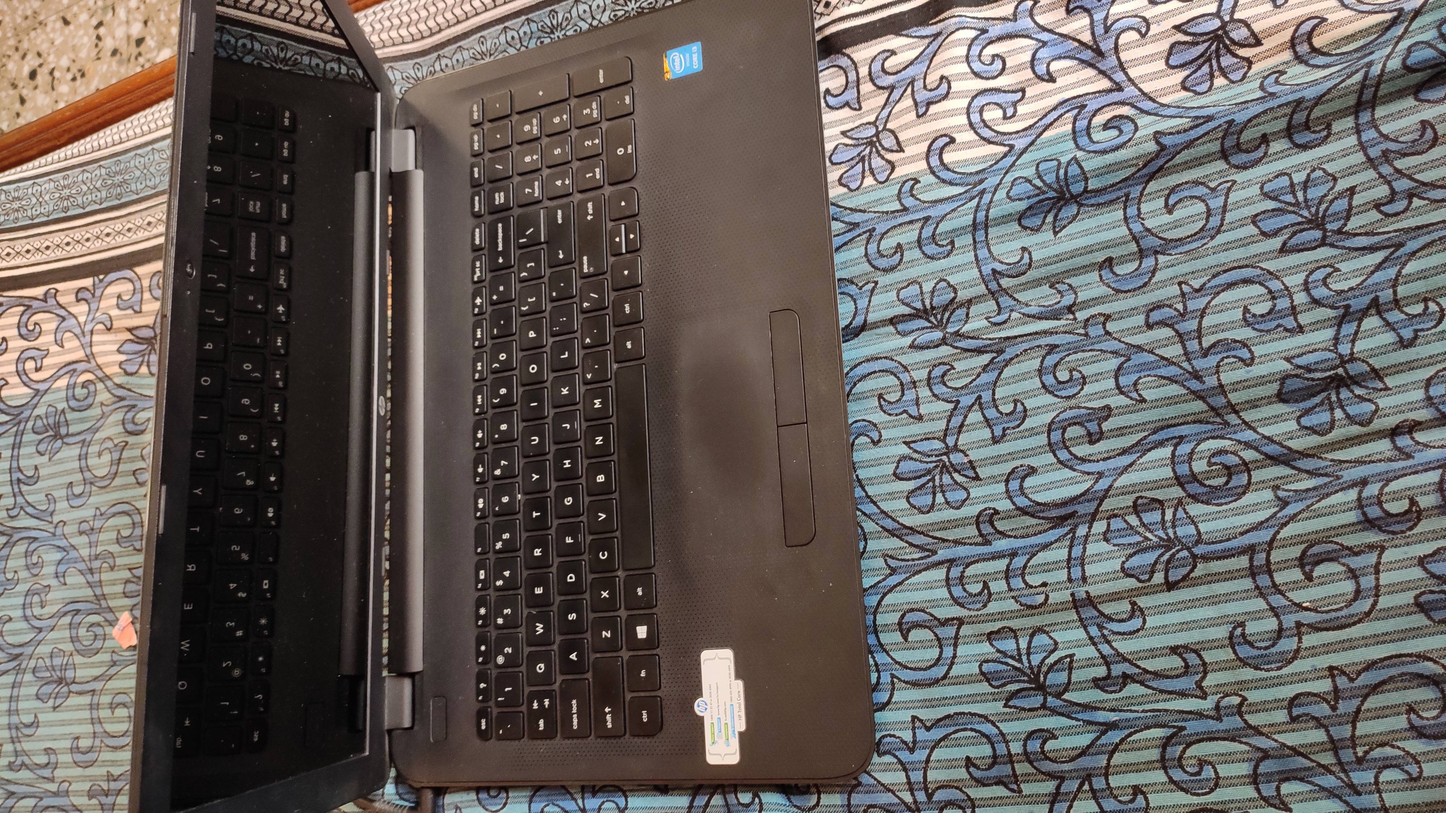Electronics: (111, 0, 889, 809)
